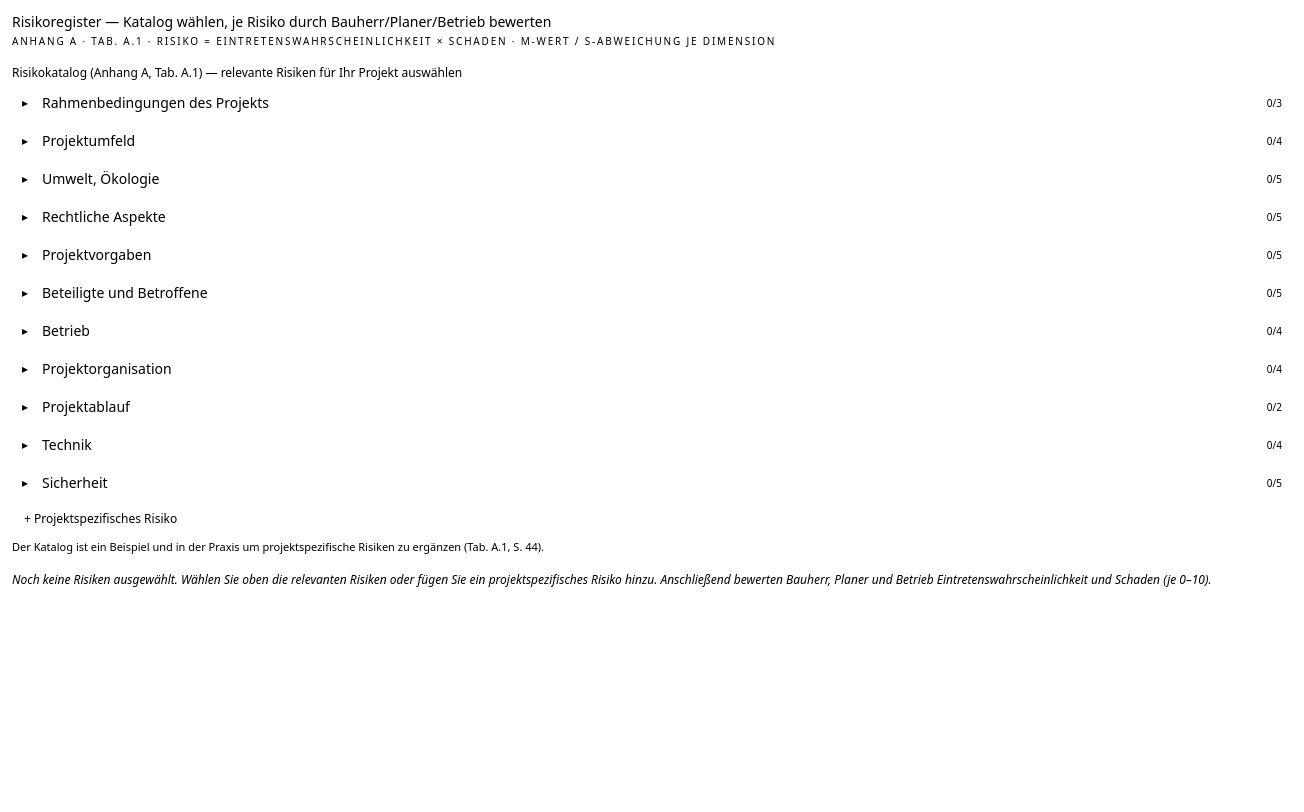
Test: RiskRegisterEditor — catalogue + multi-assessor assessment › adds a project-specific (custom) risk with editable group + name
The image size is (1304, 812).
Click the button "+ Projektspezifisches Risiko" at {"x": 101, "y": 519}, box [12,505,189,533]
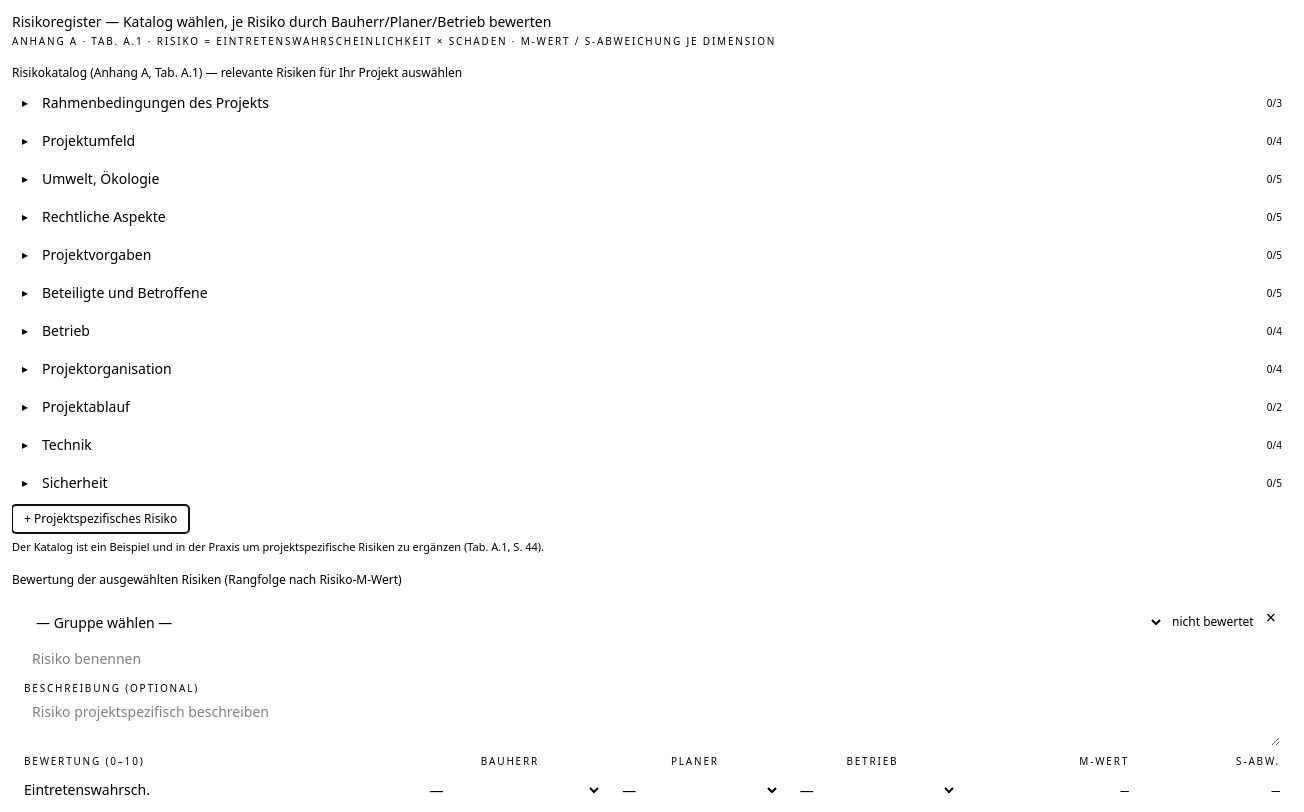
Expected: the dropdown named "Risikogruppe" is shown, [24,608,1164,636]
Expected: the field named "Risiko (Kurzname)" is shown, [24,644,1164,672]
